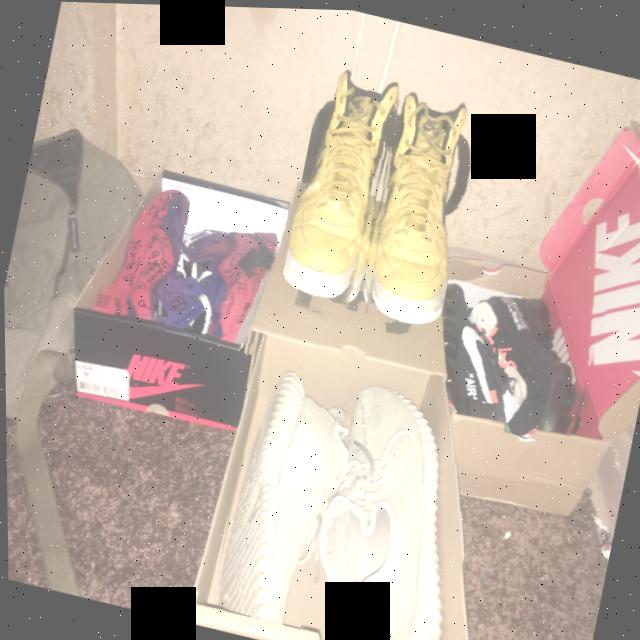shoe: (285, 365, 495, 640), (202, 350, 362, 631), (273, 57, 408, 323), (347, 83, 484, 344), (442, 265, 609, 447), (89, 175, 230, 342), (409, 258, 544, 423), (161, 197, 290, 356)
